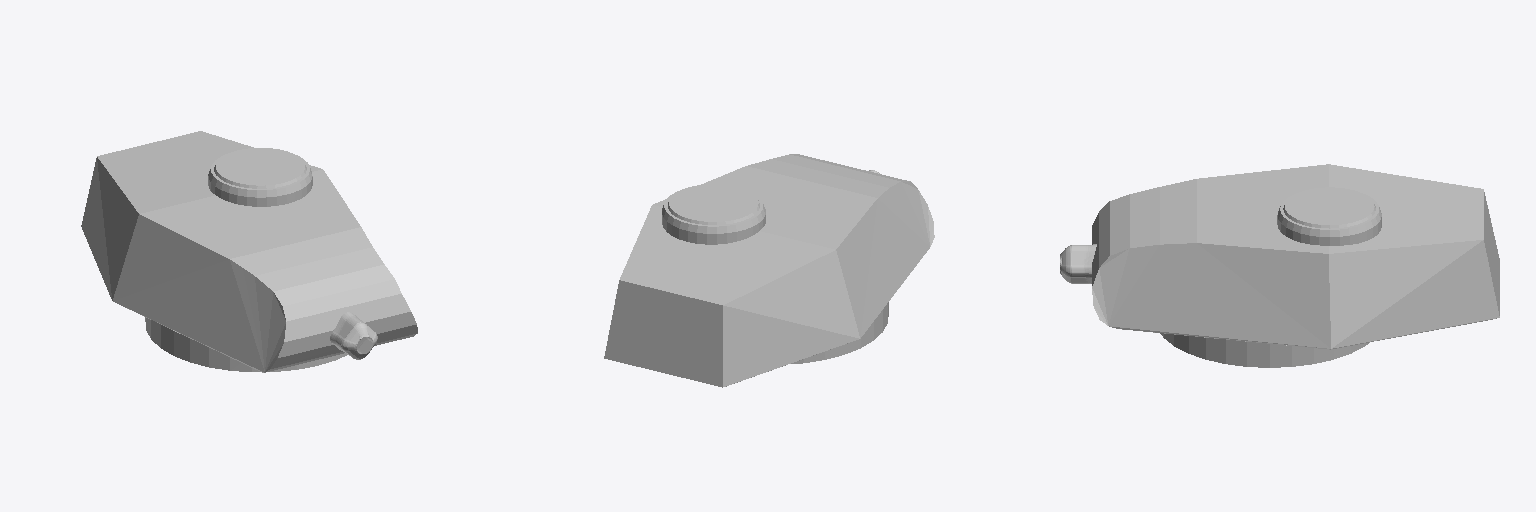
The model's file is wiezav2.obj.
The picture shows the model from 3 angles: view 1: azimuth 30°, elevation 25°; view 2: azimuth 150°, elevation 25°; view 3: azimuth 270°, elevation 25°; orthographic projection.
Parts seen in each view (by area): view 1: wieża_Cube.000; view 2: wieża_Cube.000; view 3: wieża_Cube.000.
Boxes of the visible parts, x1,y1,x2,y2 form: wieża_Cube.000: [81, 131, 417, 372]; wieża_Cube.000: [604, 154, 934, 387]; wieża_Cube.000: [1060, 164, 1499, 367].
Bounding box in the file's own units: 1.98 × 1.03 × 3.2.